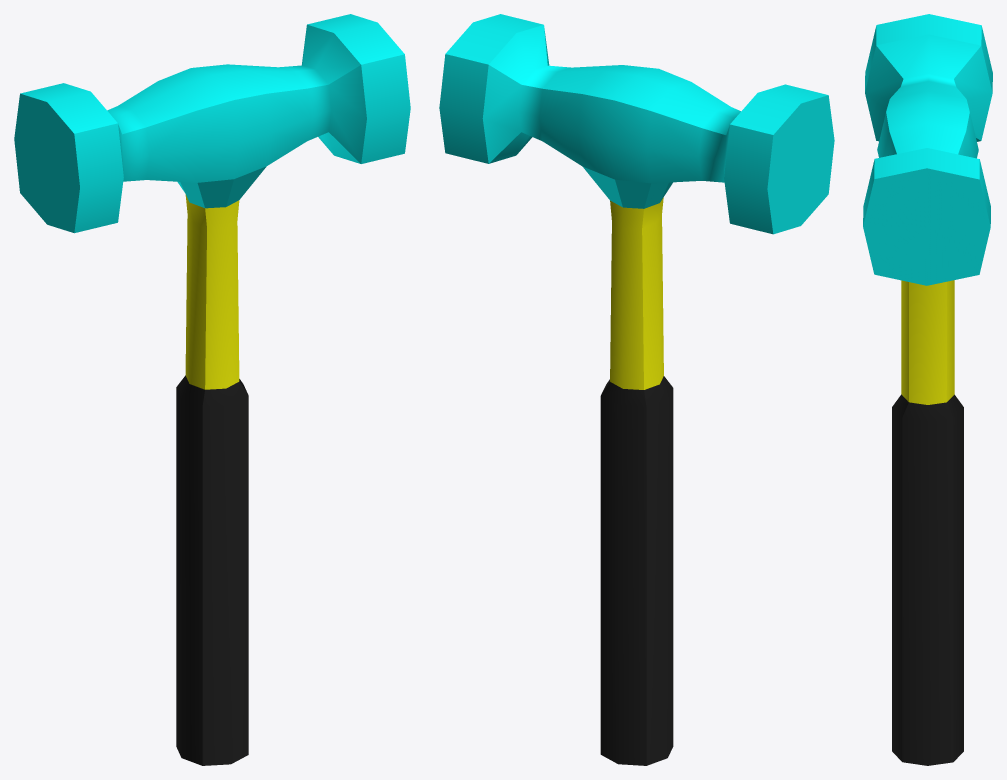
File: TextureHammerRemodel.obj
3 views of the same model, side by side, from view 1: azimuth 30°, elevation 25°; view 2: azimuth 150°, elevation 25°; view 3: azimuth 270°, elevation 25° (orthographic). The views are drawn at different scales.
Visible parts, largest first — view 1: HammerMesh; view 2: HammerMesh; view 3: HammerMesh.
Part boxes in pixels (bbox=[...]): HammerMesh: bbox=[14, 14, 410, 765]; HammerMesh: bbox=[439, 14, 834, 765]; HammerMesh: bbox=[863, 14, 992, 765].
Bounding box in the file's own units: 8.98 × 17.89 × 3.19.
